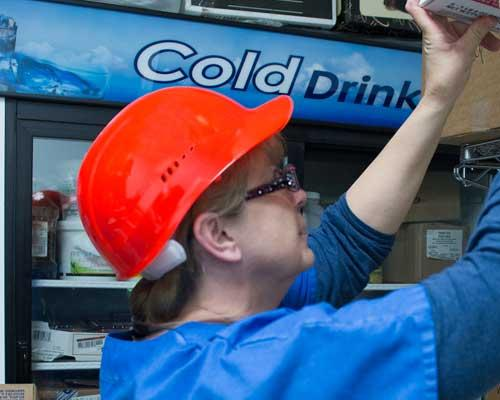helmet: (80, 87, 293, 276)
